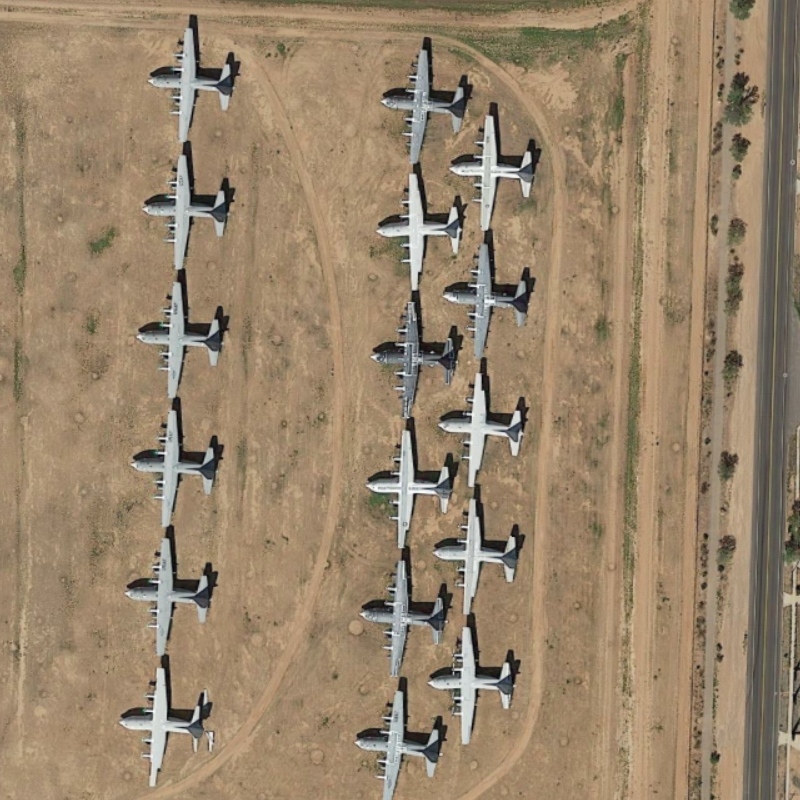A2: (114, 657, 232, 789), (120, 406, 241, 528), (430, 494, 544, 623), (138, 16, 254, 141), (128, 273, 241, 401), (120, 530, 233, 658), (366, 159, 470, 298), (422, 628, 537, 750), (359, 425, 465, 555), (445, 104, 550, 233), (358, 295, 464, 422), (140, 153, 247, 275), (378, 35, 473, 169), (431, 363, 532, 488), (348, 678, 449, 800), (354, 555, 453, 679), (441, 235, 536, 361)
